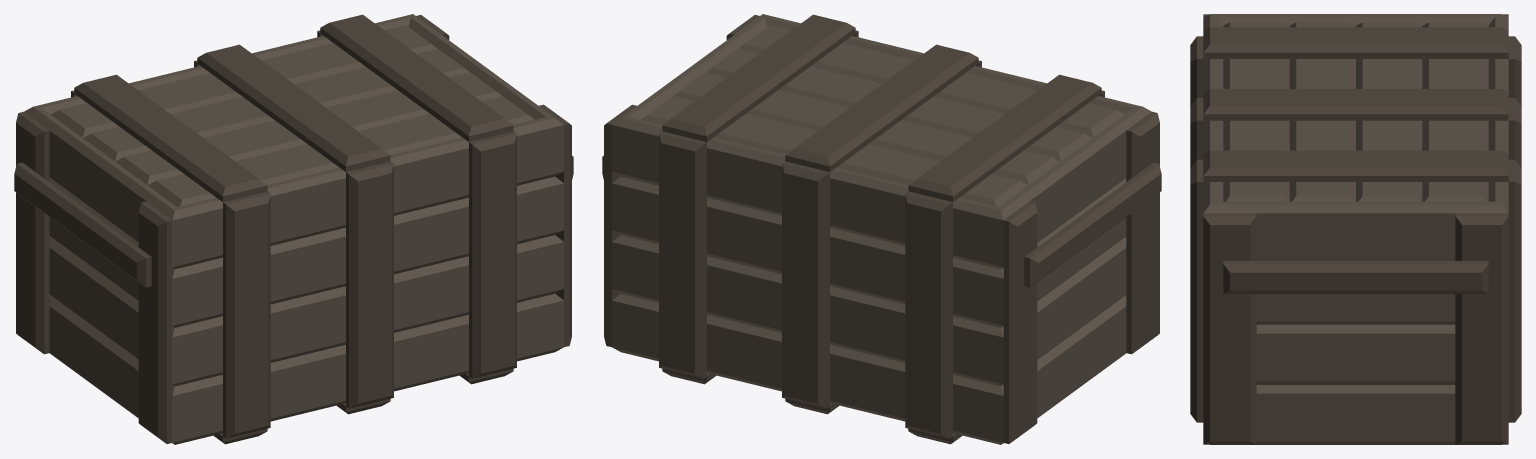
File: Prop_Crate_02_01.fbx
The picture shows the model from 3 angles, left to right: view 1: azimuth 30°, elevation 25°; view 2: azimuth 150°, elevation 25°; view 3: azimuth 270°, elevation 25°; orthographic projection. The views are drawn at different scales.
Visible parts, largest first — view 1: Prop_Crate_02_01_LOD0; view 2: Prop_Crate_02_01_LOD0; view 3: Prop_Crate_02_01_LOD0.
Part boxes in pixels (left/top/right/bottom): Prop_Crate_02_01_LOD0: left=14, top=14, right=573, bottom=444; Prop_Crate_02_01_LOD0: left=602, top=14, right=1161, bottom=444; Prop_Crate_02_01_LOD0: left=1190, top=14, right=1521, bottom=444.
Size of what is drawn, in the model's own units: 62.4 by 35.2 by 40.
